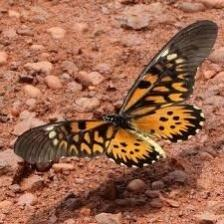butterfly: (14, 21, 218, 168)
